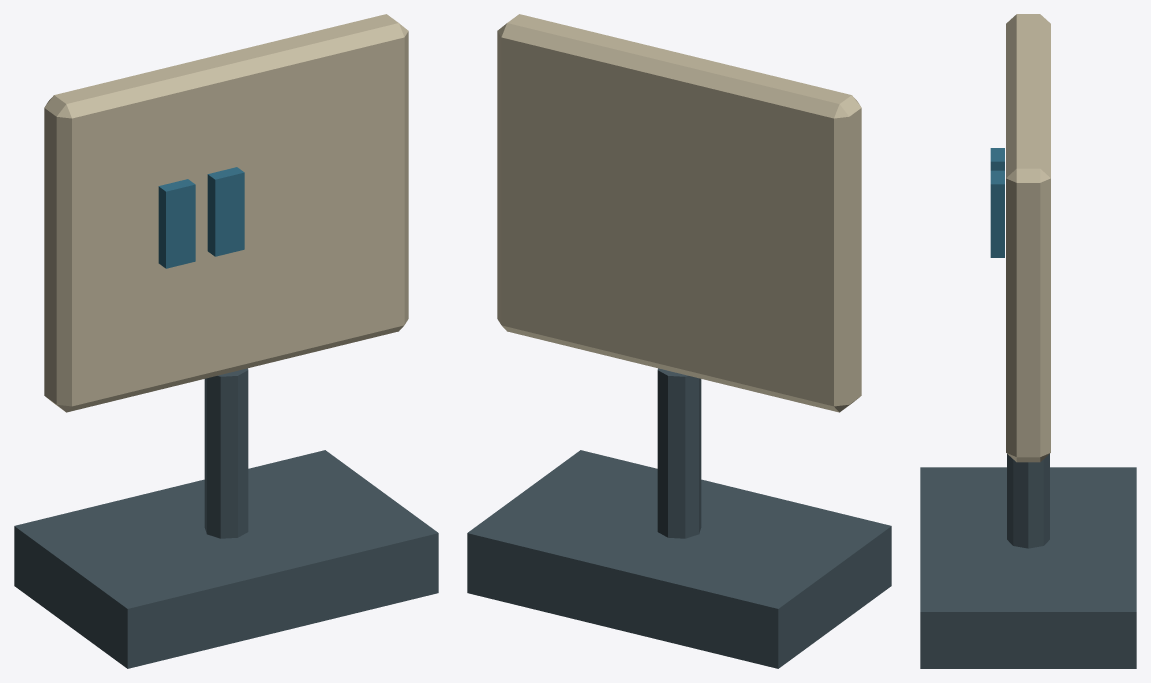
Rendered from set_price_board.glb.
3 renders of one model, left to right at view 1: azimuth 30°, elevation 25°; view 2: azimuth 150°, elevation 25°; view 3: azimuth 270°, elevation 25°, orthographic. The views are drawn at different scales.
Parts seen in each view (by area): view 1: set_price_board; view 2: set_price_board; view 3: set_price_board.
Part boxes in pixels (x1=…): set_price_board: x1=14, y1=14, x2=438, y2=668; set_price_board: x1=467, y1=14, x2=891, y2=668; set_price_board: x1=920, y1=14, x2=1136, y2=668.
Size of the model in its own units: 0.215 by 0.3095 by 0.12.
